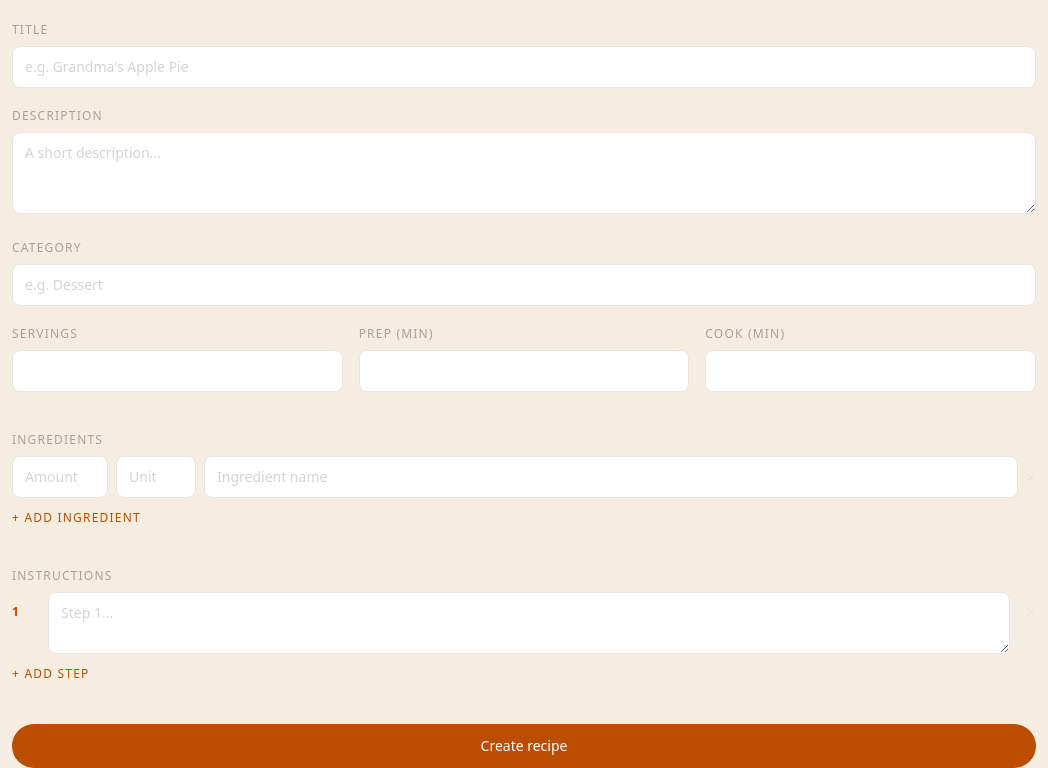
RecipeForm › adds a new step row when clicking + Add step
The image size is (1048, 768).
(page scrolled)
Click the button "+ Add step" at [51, 674], box [12,666,90,682]
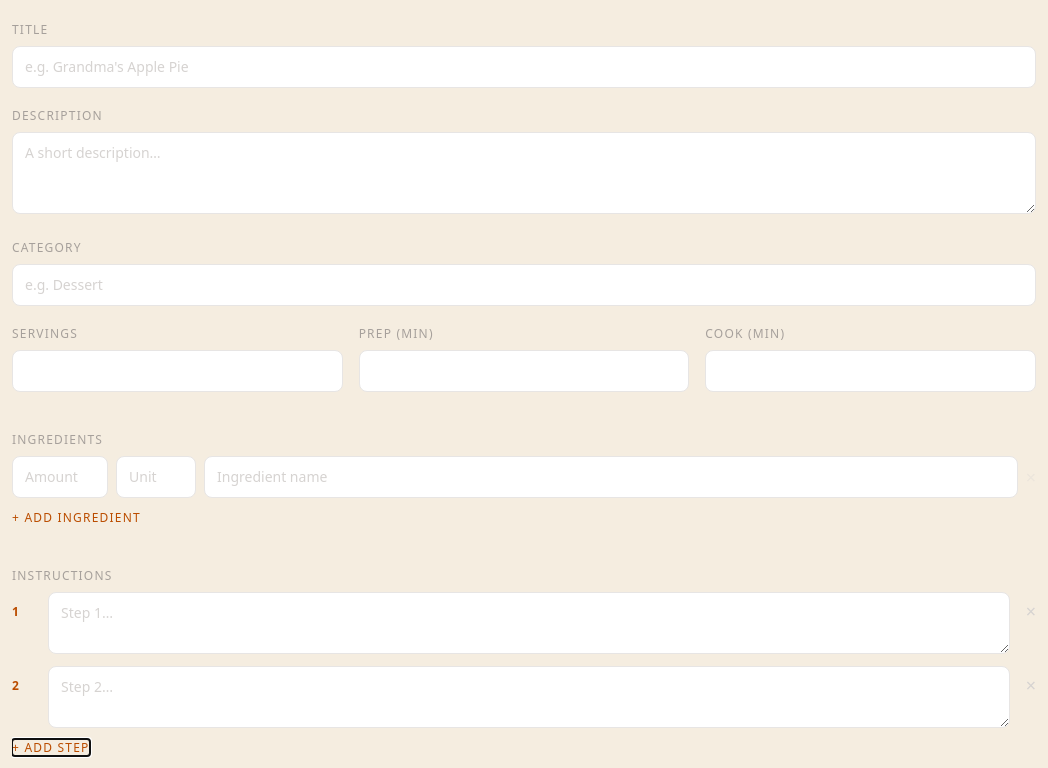
Expected: the number of text boxes with placeholder "Step 1…" is 2, [48,592,1010,654]; [48,666,1010,728]
